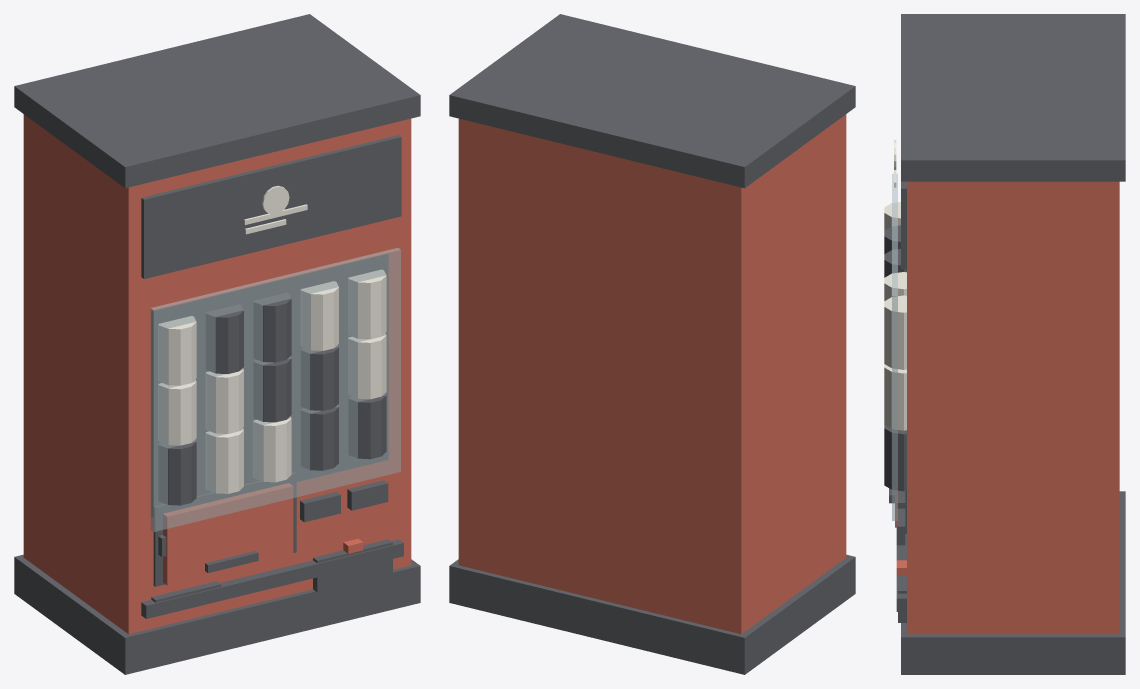
Rendered from hot_can_vending_machine.glb.
3 renders of one model, left to right at view 1: azimuth 30°, elevation 25°; view 2: azimuth 150°, elevation 25°; view 3: azimuth 270°, elevation 25°, orthographic.
Parts seen in each view (by area): view 1: hot-can-vending-machine-steel, hot-can-vending-machine-charcoal, hot-can-vending-machine-glass, hot-can-vending-machine-indigo, hot-can-vending-machine-cream, hot-can-vending-machine-leaf, flap/vermilion, hot-can-vending-machine-vermilion, flap/charcoal; view 2: hot-can-vending-machine-steel, hot-can-vending-machine-charcoal; view 3: hot-can-vending-machine-steel, hot-can-vending-machine-charcoal, hot-can-vending-machine-indigo, hot-can-vending-machine-cream, hot-can-vending-machine-glass, hot-can-vending-machine-leaf, hot-can-vending-machine-vermilion.
Boxes of the visible parts, x1,y1,x2,y2 form: hot-can-vending-machine-steel: (23,114,411,634); hot-can-vending-machine-charcoal: (14,14,420,674); hot-can-vending-machine-glass: (150,248,400,531); hot-can-vending-machine-indigo: (141,135,401,505); hot-can-vending-machine-cream: (158,185,386,482); hot-can-vending-machine-leaf: (158,281,386,493); flap/vermilion: (163,483,293,585); hot-can-vending-machine-vermilion: (158,480,388,556); flap/charcoal: (205,551,258,572); hot-can-vending-machine-steel: (458,114,846,634); hot-can-vending-machine-charcoal: (449,14,855,674); hot-can-vending-machine-steel: (896,181,1119,634); hot-can-vending-machine-charcoal: (884,14,1125,674); hot-can-vending-machine-indigo: (884,181,906,491); hot-can-vending-machine-cream: (884,140,906,369); hot-can-vending-machine-glass: (892,173,897,520); hot-can-vending-machine-leaf: (884,272,906,430); hot-can-vending-machine-vermilion: (896,490,905,545).
Size of the model in its own units: 1.17 by 1.92 by 0.8162.
